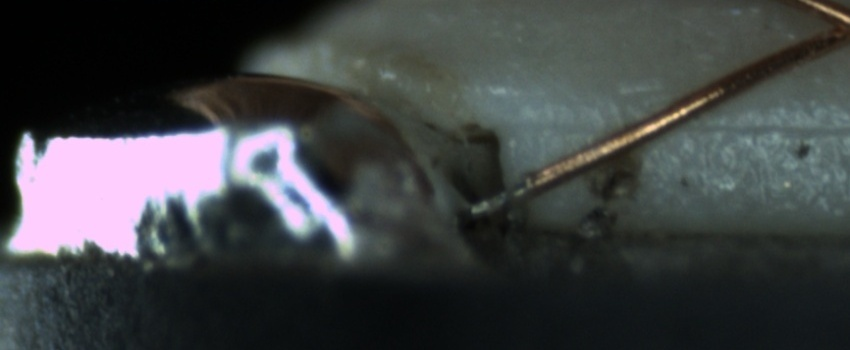CL: (806, 7, 849, 50)
DL: (525, 91, 844, 159)
TS: (462, 175, 536, 220)
